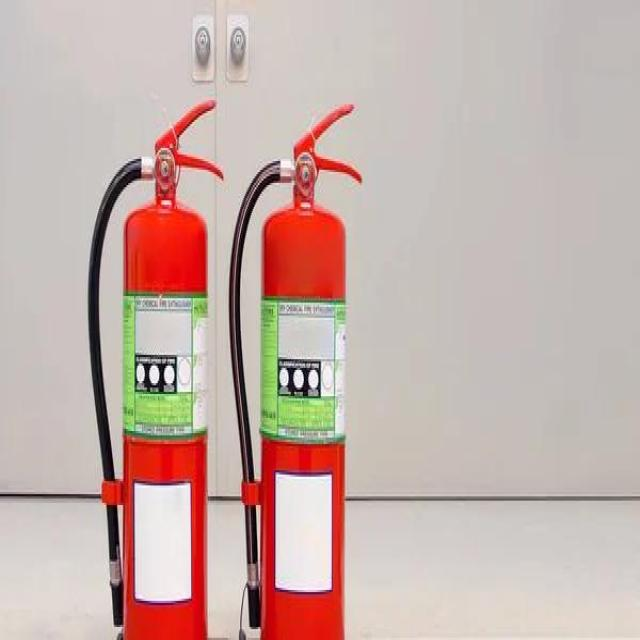fire_extinguisher: (82, 93, 226, 638), (225, 100, 364, 638)
